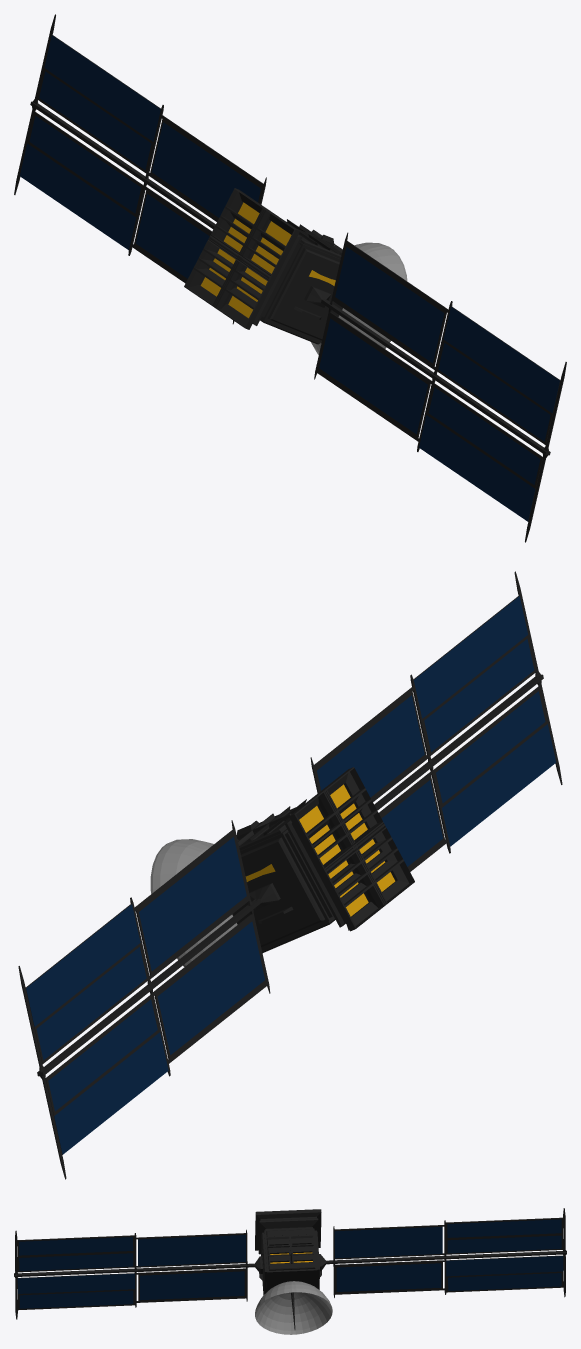
3 views of the same model, one above another, from view 1: azimuth 30°, elevation 25°; view 2: azimuth 150°, elevation 25°; view 3: azimuth 270°, elevation 25° (orthographic). The views are drawn at different scales.
Visible parts, largest first — view 1: Cube; view 2: Cube; view 3: Cube.
Part boxes in pixels (left/top/right/bottom): Cube: left=14, top=14, right=566, bottom=542; Cube: left=18, top=571, right=562, bottom=1179; Cube: left=14, top=1208, right=566, bottom=1334.
Bounding box in the file's own units: 5.02 × 5 × 22.03.
Materials: 1 (1 with a texture image).
